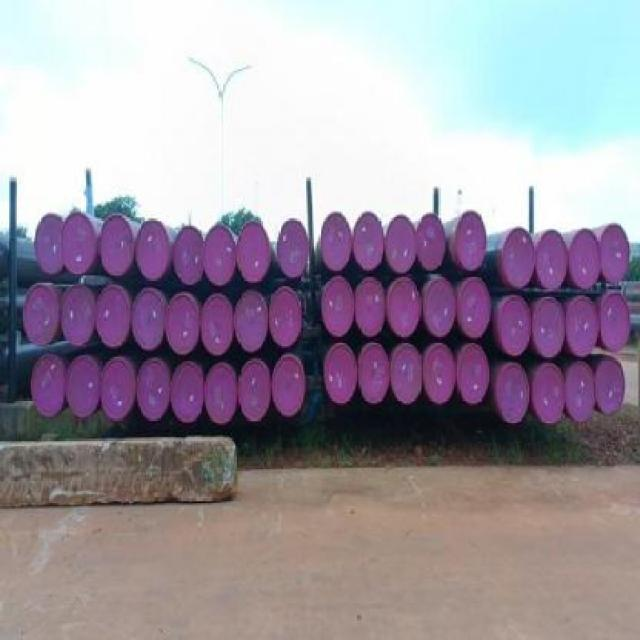pipe: (23, 282, 60, 348), (60, 208, 97, 274), (59, 283, 96, 349), (94, 283, 131, 349), (97, 213, 134, 279), (500, 223, 536, 288), (136, 216, 173, 279), (99, 356, 136, 419), (29, 352, 66, 414), (66, 354, 102, 416), (203, 222, 237, 287), (236, 217, 270, 282), (268, 283, 302, 348), (565, 292, 599, 357), (34, 211, 69, 274), (535, 226, 568, 291), (354, 274, 387, 339), (423, 272, 456, 337), (498, 292, 531, 357), (532, 294, 565, 359), (598, 289, 631, 354), (131, 285, 165, 348), (166, 293, 200, 356), (200, 293, 234, 356), (234, 288, 268, 351), (320, 273, 354, 336), (386, 276, 420, 339), (457, 276, 491, 339), (319, 209, 353, 271), (454, 209, 488, 271), (357, 342, 391, 404), (136, 358, 170, 420), (352, 208, 385, 271), (385, 210, 418, 273), (568, 226, 601, 289), (457, 342, 490, 404), (272, 352, 305, 414), (205, 360, 238, 422), (276, 217, 310, 277), (423, 342, 457, 402), (389, 342, 423, 402), (237, 359, 271, 419), (171, 360, 205, 420), (172, 223, 205, 283), (325, 342, 358, 402), (596, 353, 627, 416), (499, 359, 530, 422), (565, 358, 596, 420), (534, 360, 565, 422), (599, 221, 630, 282), (417, 213, 445, 270)
